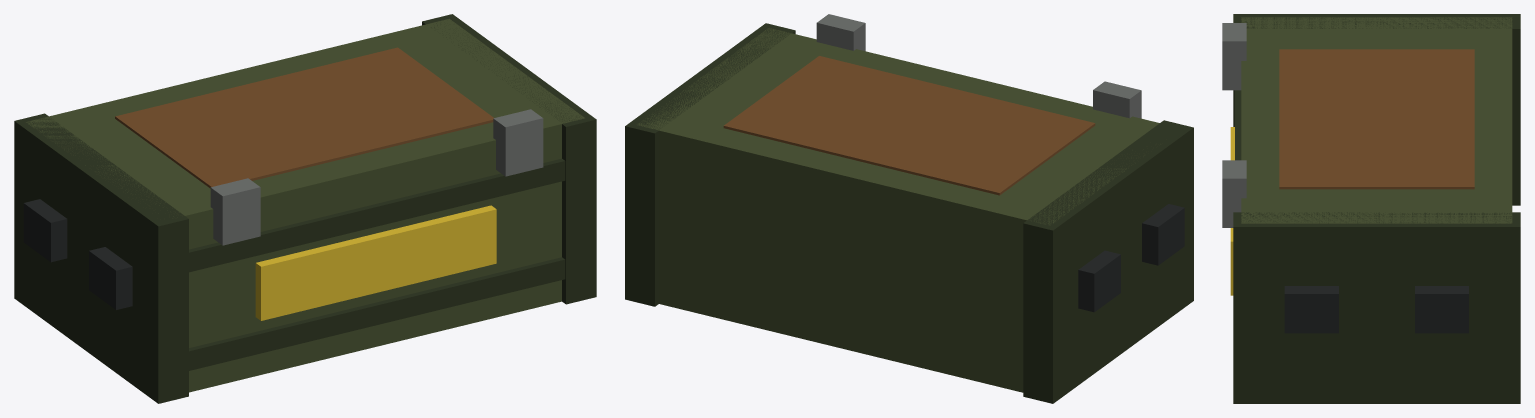
The model's file is caixa_corpo.glb.
3 renders of one model, left to right at view 1: azimuth 30°, elevation 25°; view 2: azimuth 150°, elevation 25°; view 3: azimuth 270°, elevation 25°, orthographic. The views are drawn at different scales.
Visible parts, largest first — view 1: caixa_corpo; view 2: caixa_corpo; view 3: caixa_corpo.
Boxes of the visible parts, x1,y1,x2,y2 form: caixa_corpo: (14,14,596,403); caixa_corpo: (625,14,1193,403); caixa_corpo: (1222,14,1520,403).
Size of the model in its own units: 1 by 0.4 by 0.55.
